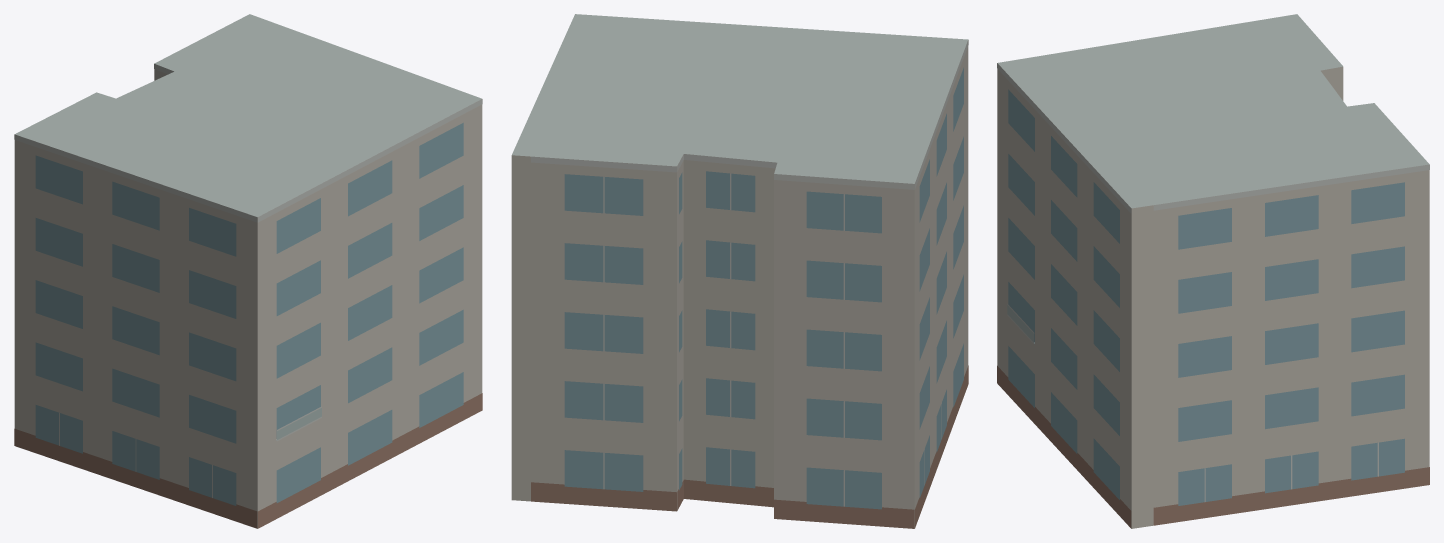
File: survey-upis-32747402.glb
3 renders of one model, left to right at view 1: azimuth 30°, elevation 25°; view 2: azimuth 150°, elevation 25°; view 3: azimuth 270°, elevation 25°, orthographic. The views are drawn at different scales.
Visible parts, largest first — view 1: survey-upis-32747402.tmp; view 2: survey-upis-32747402.tmp; view 3: survey-upis-32747402.tmp.
Part boxes in pixels (x1,y1,x2,y2): survey-upis-32747402.tmp: (14, 14, 482, 528); survey-upis-32747402.tmp: (511, 14, 968, 528); survey-upis-32747402.tmp: (997, 14, 1429, 528).
Bounding box in the file's own units: 18.22 × 14 × 17.13.
